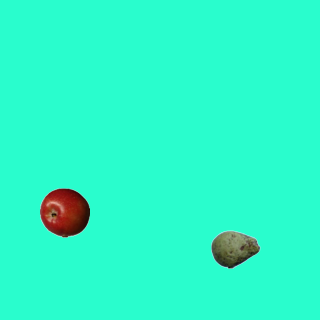Apple Braeburn: (39, 187, 89, 237)
Pear Stone: (210, 224, 260, 274)
